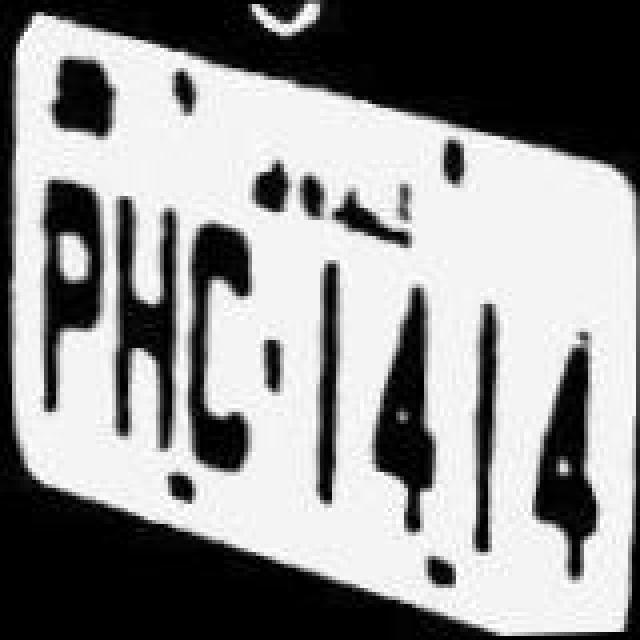1: (452, 276, 520, 568), (296, 238, 360, 514)
4: (518, 306, 614, 606), (358, 276, 446, 552)
C: (178, 216, 266, 480)
H: (102, 178, 182, 466)
P: (28, 170, 112, 438)
